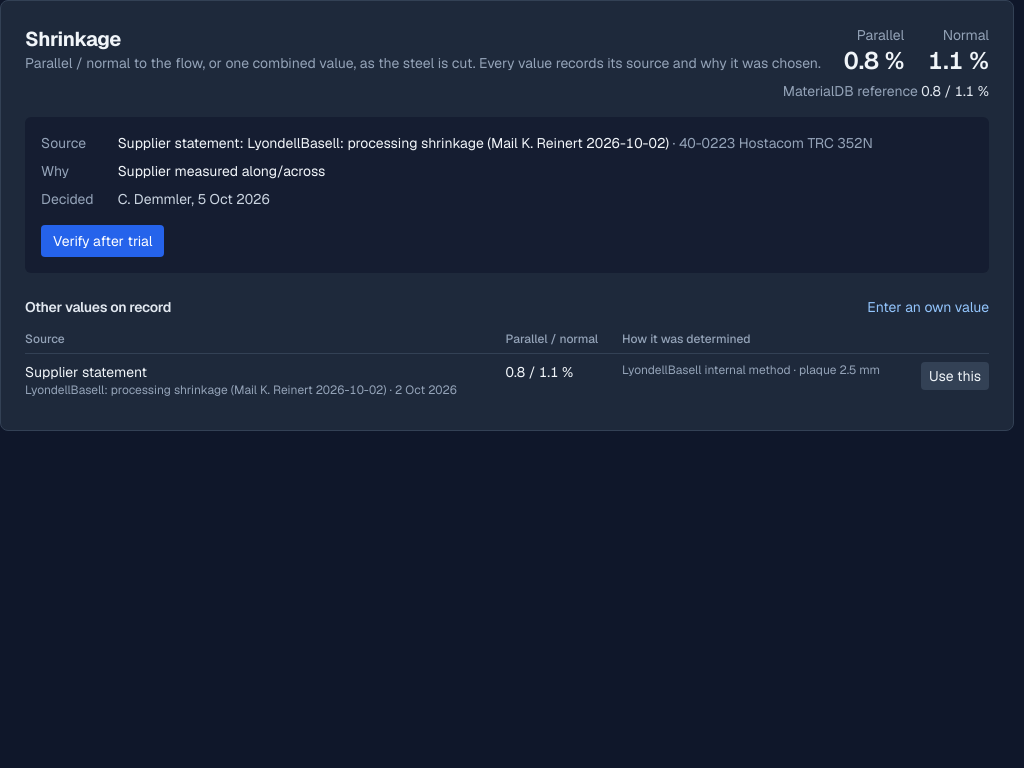
Test: ToolShrinkCard › verifies after the trial and asks for a next-tool note unless correct
The image size is (1024, 768).
Later steps or results of the test are not shown.
Click the button with test id "shrink-verify-open" at point(103, 241), box [41,225,164,257]
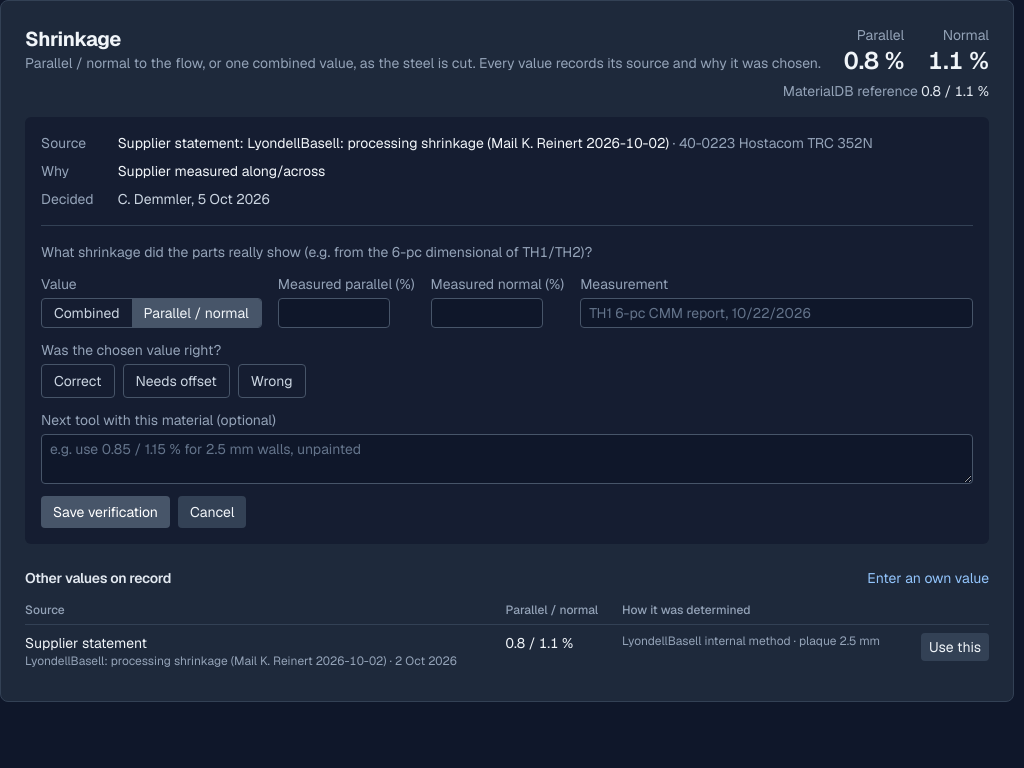
Type "0.86" into the field with test id "shrink-measured-parallel" at point(334, 313), box [278,298,390,328]
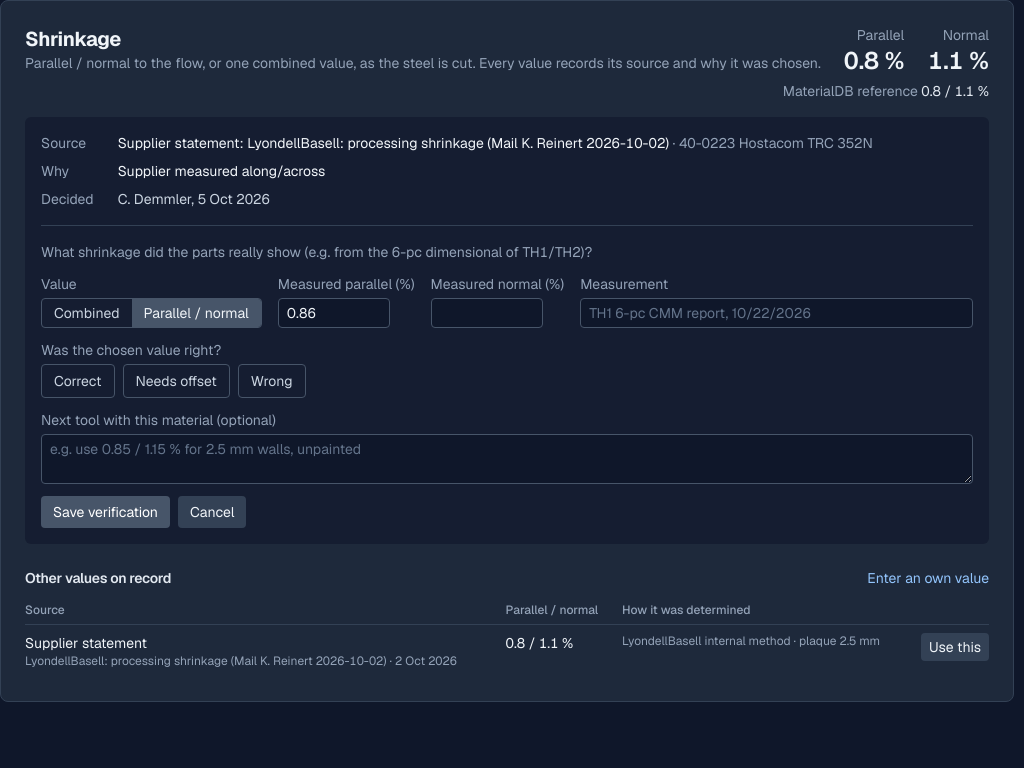
Type "1.15" into the field with test id "shrink-measured-normal" at point(486, 313), box [430,298,542,328]
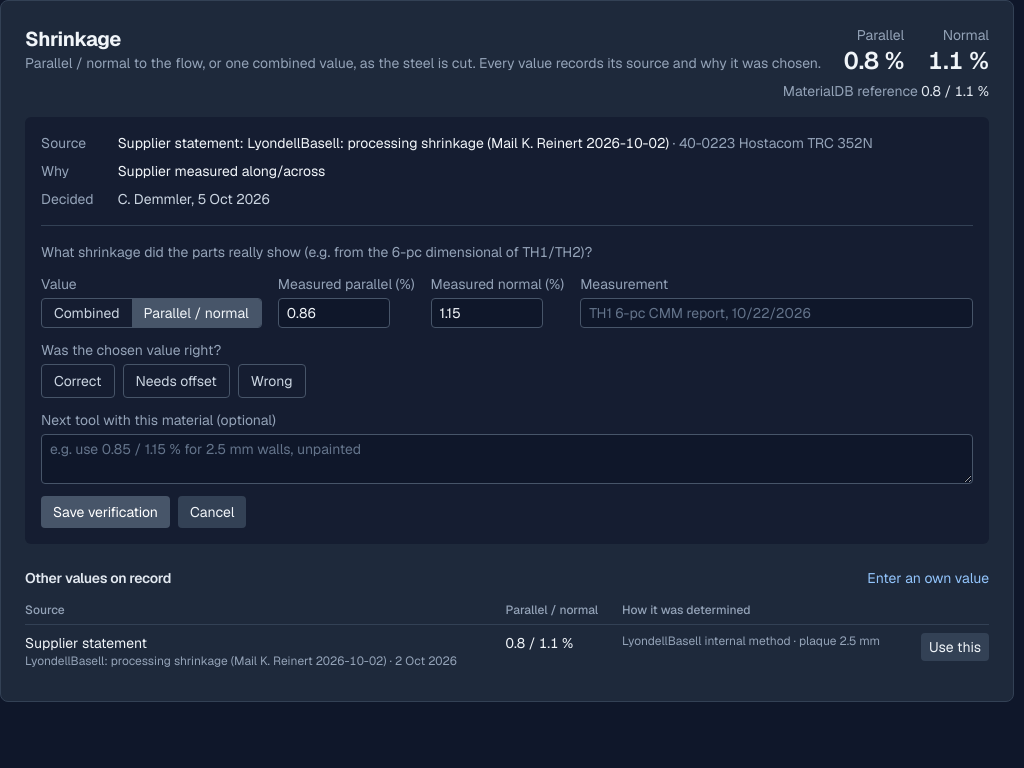
Type "TH1 6-pc CMM" into the field with test id "shrink-measured-ref" at point(777, 313), box [580,298,973,328]
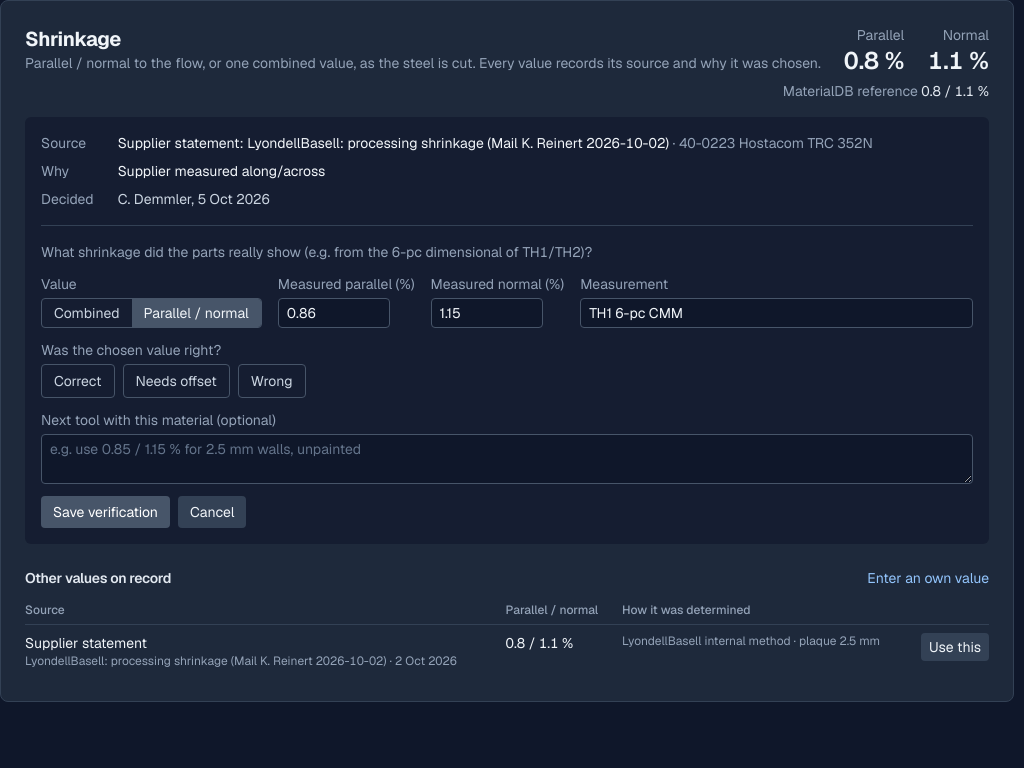
Click the radio button "Needs offset" at point(176, 381), box [122,364,230,398]
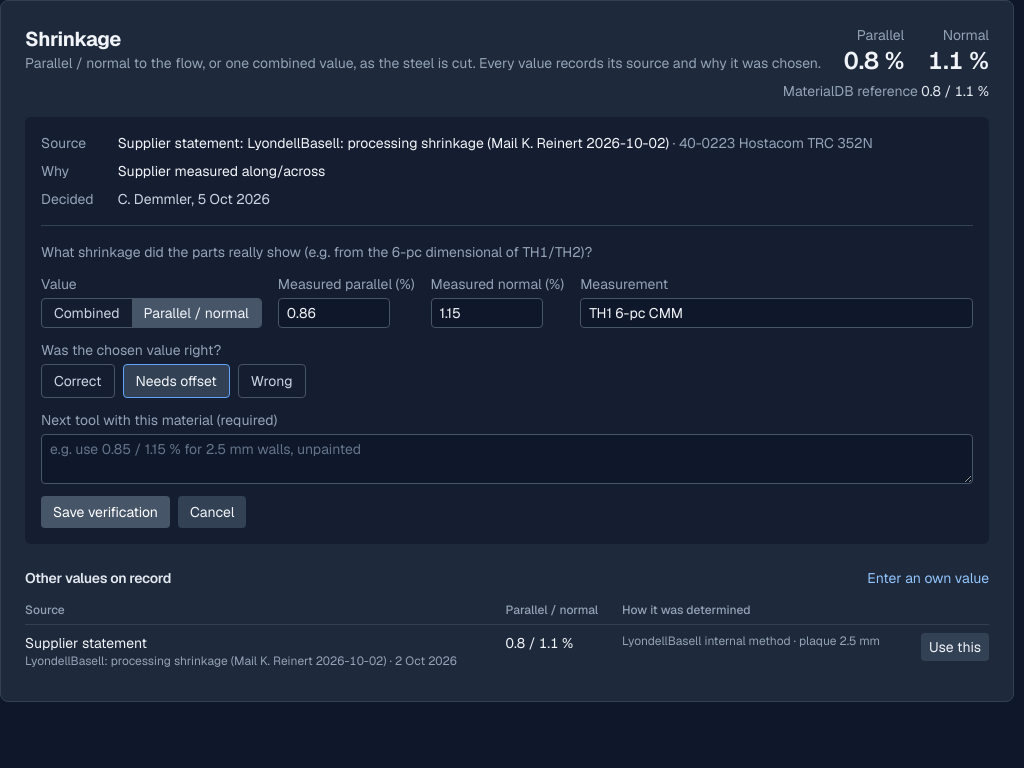
expect the button with test id "shrink-verify-save" is disabled: met, box [41,496,170,528]
